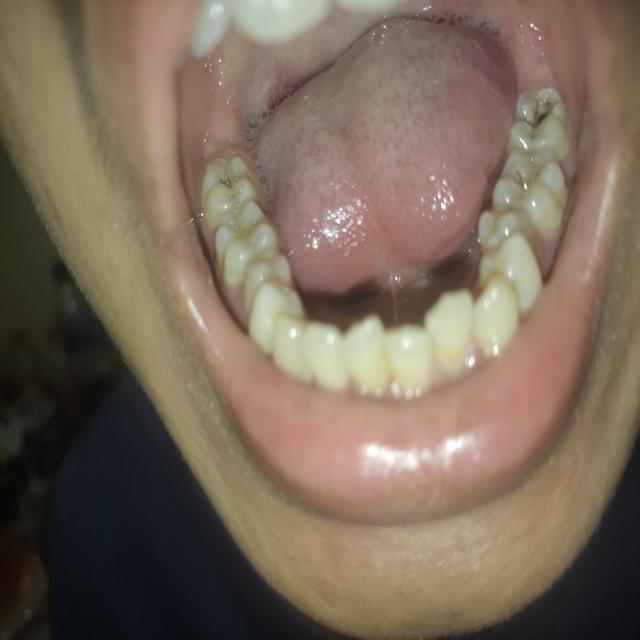caries: (491, 144, 568, 236), (214, 200, 279, 285), (508, 86, 572, 163), (200, 154, 260, 228)
